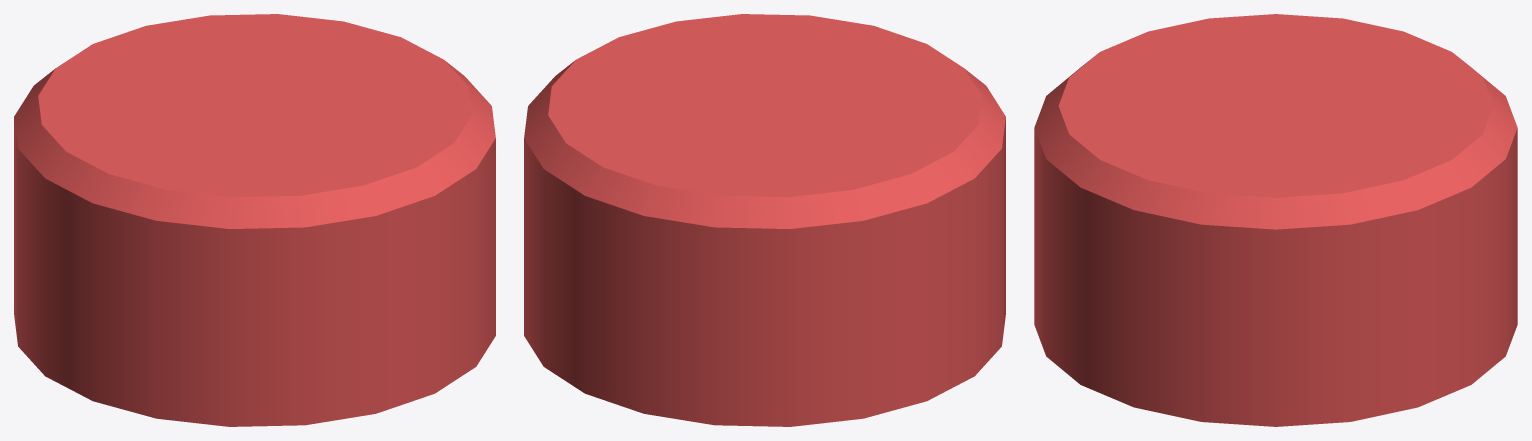
Rendered from BtnCir03.fbx.
3 renders of one model, left to right at view 1: azimuth 30°, elevation 25°; view 2: azimuth 150°, elevation 25°; view 3: azimuth 270°, elevation 25°, orthographic.
Visible parts, largest first — view 1: BtnCir03; view 2: BtnCir03; view 3: BtnCir03.
Part boxes in pixels (left/top/right/bottom): BtnCir03: left=14, top=14, right=495, bottom=426; BtnCir03: left=524, top=14, right=1005, bottom=426; BtnCir03: left=1034, top=14, right=1517, bottom=426.
Bounding box in the file's own units: 2 × 1 × 2.
